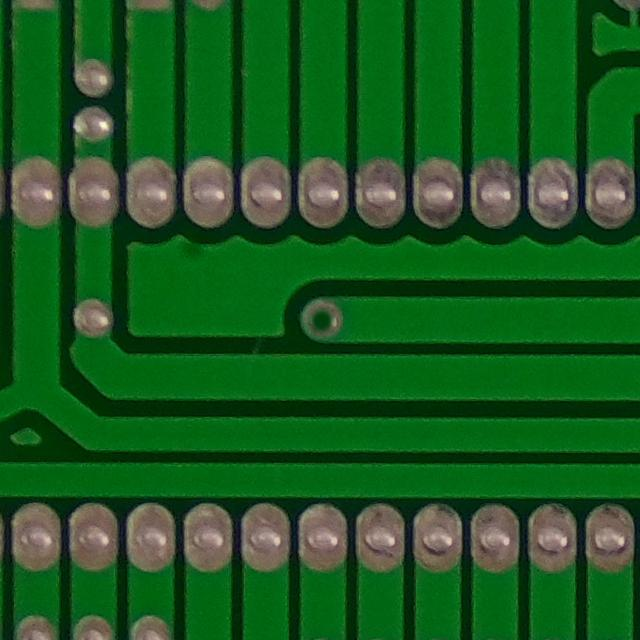missing_hole: (295, 291, 346, 349)
